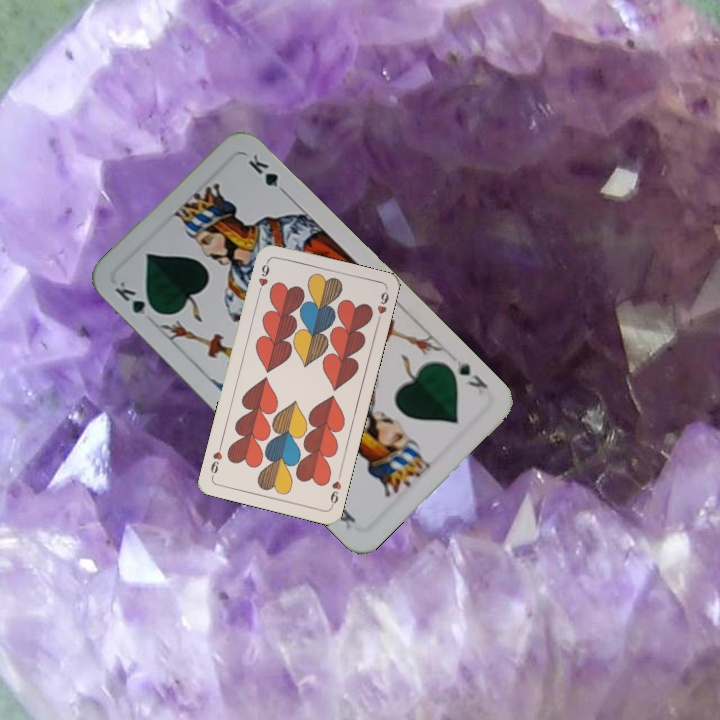GK: (110, 275, 162, 320), (449, 356, 491, 392)
H9: (326, 470, 344, 510), (254, 257, 272, 297)
